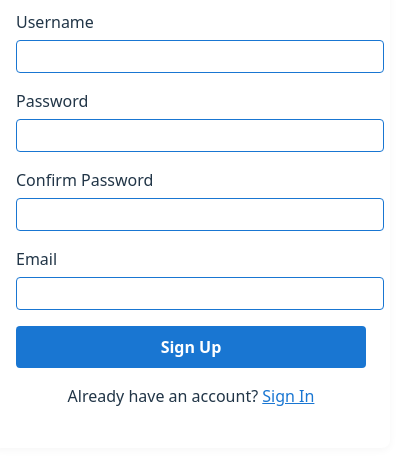
Test case: SignupForm › shows error if passwords do not match
In the field labelled "Username": (200, 56) [16,40,384,73], type "fatty"
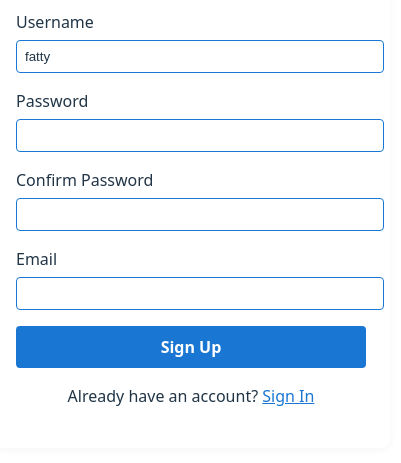
In the password field labelled "Password": (200, 136) [16,119,384,152], type "moushami123"
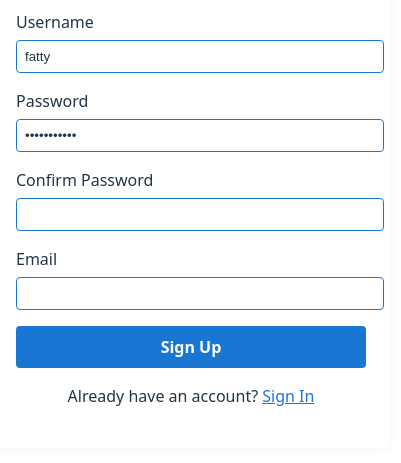
In the password field labelled "Confirm Password": (200, 214) [16,198,384,231], type "password2"
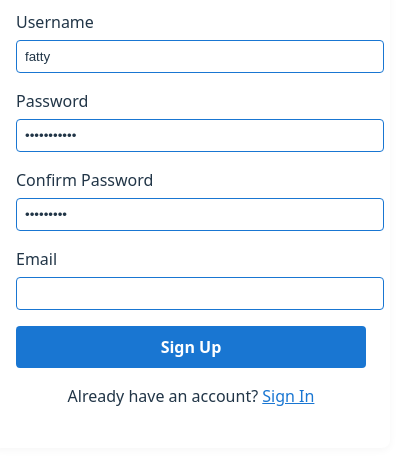
In the field labelled "Email": (200, 294) [16,277,384,310], type "fatty@email.com"
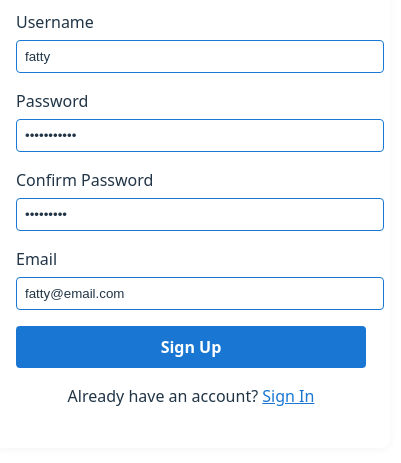
Click the button "Sign Up": (191, 347) [16,326,366,368]
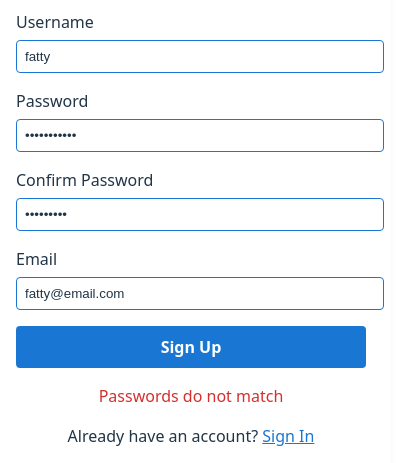
Expected: the text "Passwords do not match" is shown, [99,385,283,407]
